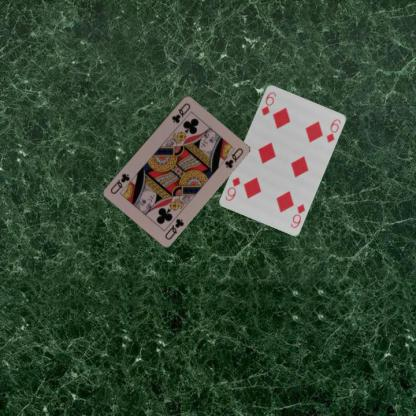6d: (259, 89, 277, 117), (288, 201, 306, 229)
Qc: (162, 215, 186, 241), (169, 100, 192, 124)
